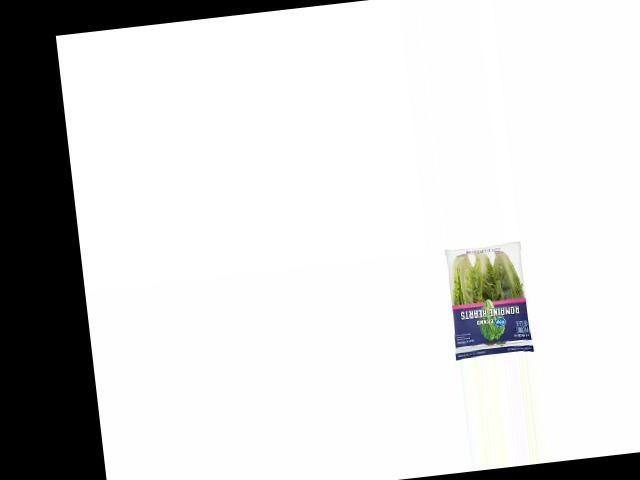lettuce: (440, 244, 536, 358)
